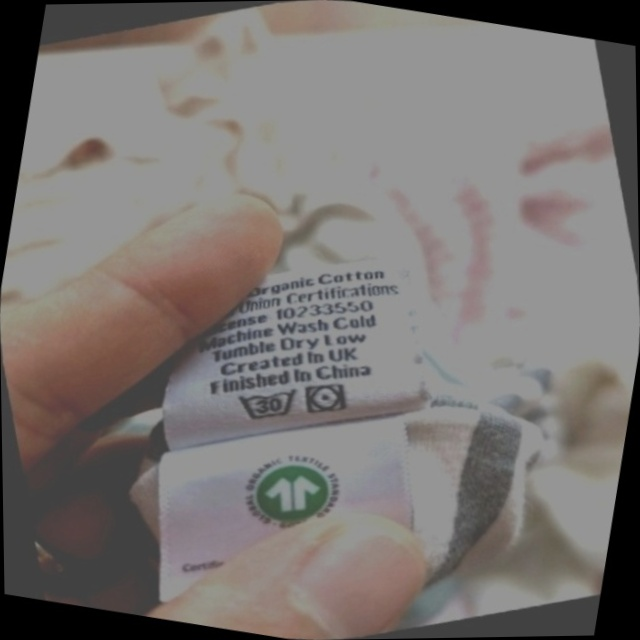30C: (224, 369, 311, 440)
tumble_dry_low: (293, 368, 359, 429)
